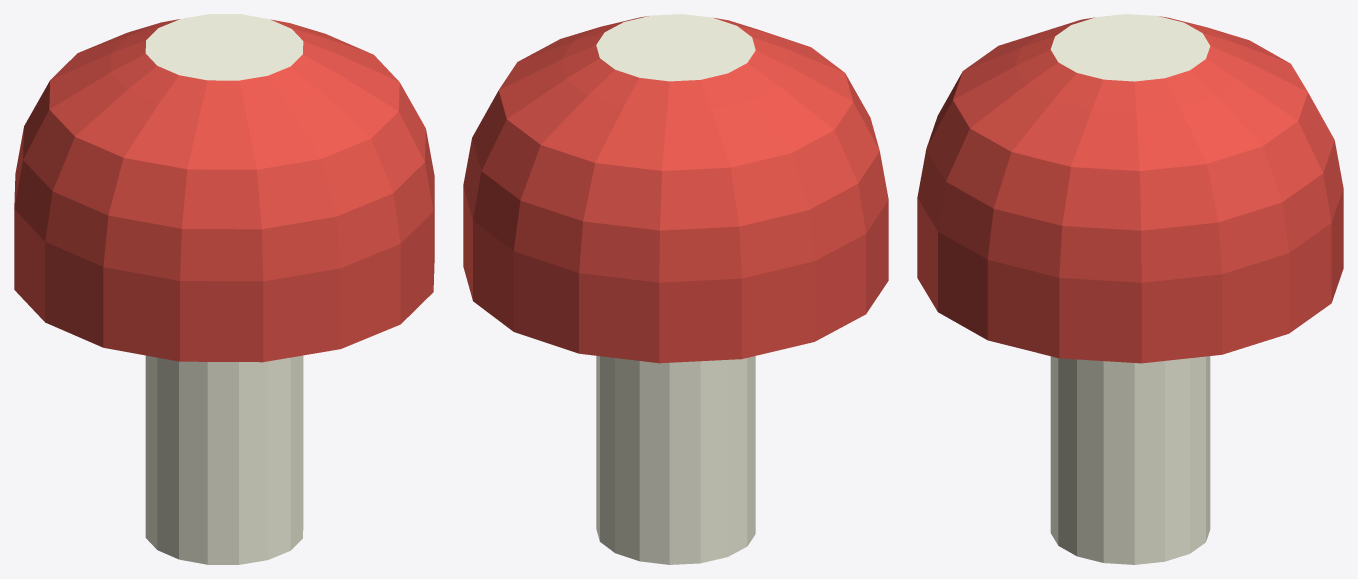
3 views of the same model, side by side, from view 1: azimuth 30°, elevation 25°; view 2: azimuth 150°, elevation 25°; view 3: azimuth 270°, elevation 25° (orthographic).
Visible parts, largest first — view 1: tier, stem; view 2: tier, stem; view 3: tier, stem.
Part boxes in pixels (box(x1,y1,x2,y2)): tier: box(14, 19, 434, 362); stem: box(145, 14, 303, 564); tier: box(463, 16, 888, 363); stem: box(596, 14, 755, 564); tier: box(917, 16, 1343, 363); stem: box(1050, 14, 1210, 564).
Size of the model in its own units: 0.1198 by 0.15 by 0.1198.
